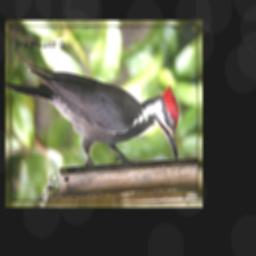Woodpecker: (6, 63, 180, 169)
